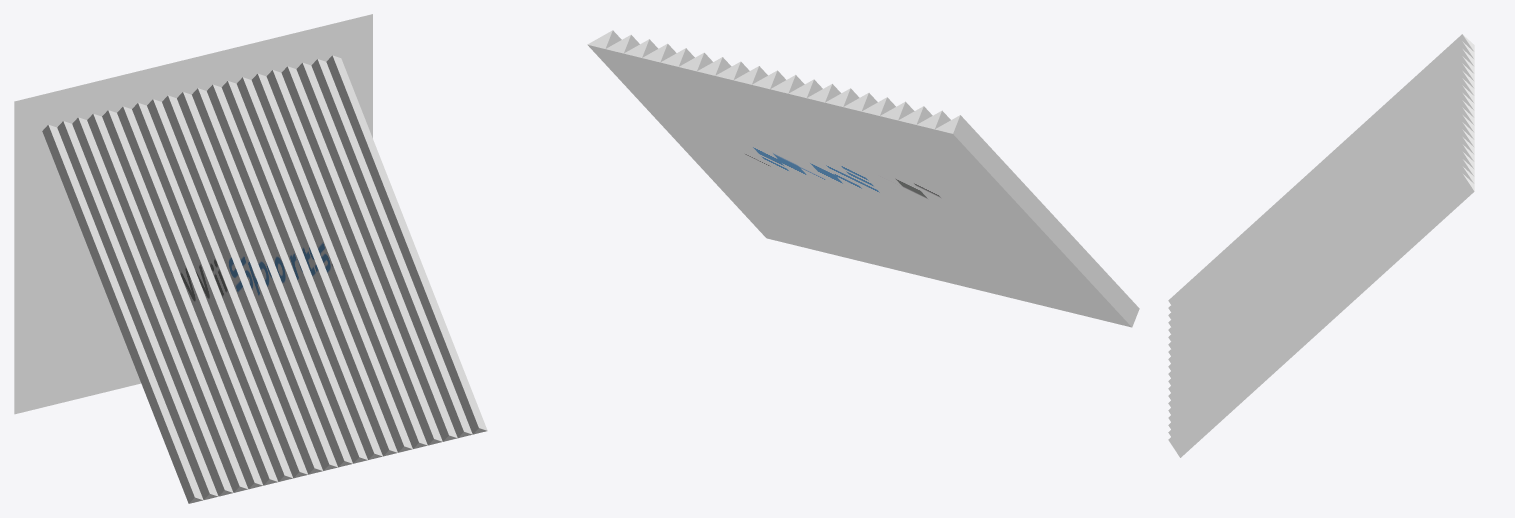
File: sp_titleBG_00__sp_titleBG_00.glb
The picture shows the model from 3 angles, left to right: view 1: azimuth 30°, elevation 25°; view 2: azimuth 150°, elevation 25°; view 3: azimuth 270°, elevation 25°; orthographic projection. The views are drawn at different scales.
Visible parts, largest first — view 1: polygon40, polygon16, polygon4, polygon14, polygon28, polygon10, polygon22, polygon24, polygon34, polygon26, polygon30, polygon32 (+29 smaller); view 2: polygon0, polygon20, polygon34, polygon16, polygon6, polygon18, polygon32, polygon8, polygon22, polygon24, polygon4, polygon30 (+8 smaller); view 3: polygon23, polygon39, polygon1, polygon17, polygon25, polygon33, polygon9, polygon13, polygon29, polygon7, polygon27, polygon35 (+8 smaller).
Part boxes in pixels (x1,y1,x2,y2): polygon40: (14,14,372,414); polygon16: (281,66,442,445); polygon4: (192,88,352,467); polygon14: (266,70,427,448); polygon28: (102,110,262,489); polygon10: (237,77,397,456); polygon22: (326,55,486,434); polygon24: (72,117,232,496); polygon34: (147,99,307,478); polygon26: (87,114,247,492); polygon30: (117,107,277,485); polygon32: (132,103,292,481); polygon0: (935,115,1139,327); polygon20: (605,35,802,247); polygon34: (807,84,1003,296); polygon16: (642,43,838,255); polygon6: (734,66,930,278); polygon18: (624,39,820,251); polygon32: (825,88,1021,300); polygon8: (715,61,912,273); polygon22: (587,30,783,242); polygon24: (898,106,1095,318); polygon4: (752,70,948,282); polygon30: (843,93,1039,304); polygon23: (1168,173,1474,457); polygon39: (1168,100,1473,370); polygon1: (1168,34,1473,304); polygon17: (1168,151,1473,421); polygon25: (1168,49,1473,319); polygon33: (1168,78,1473,348); polygon9: (1168,122,1473,392); polygon13: (1168,137,1473,407); polygon29: (1168,63,1473,334); polygon7: (1168,115,1473,385); polygon27: (1168,56,1473,326); polygon35: (1168,85,1473,356).
Bounding box in the file's own units: 120 × 100 × 95.96.
2 materials, 1 textured.
